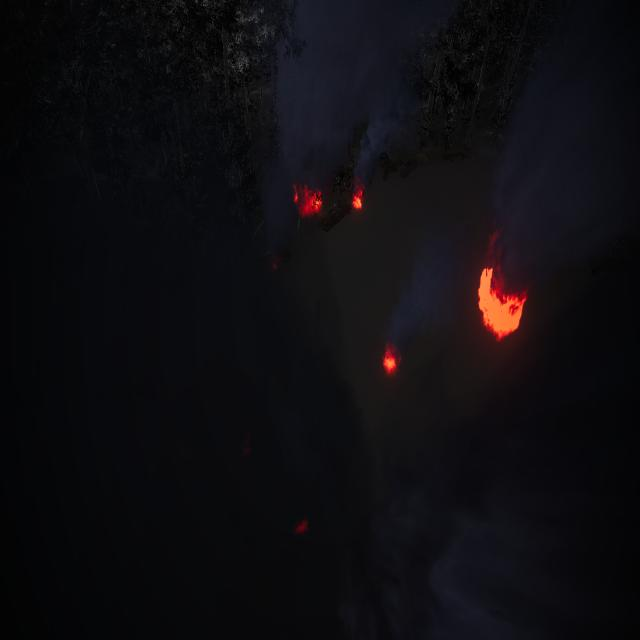Human: (308, 286, 326, 352)
